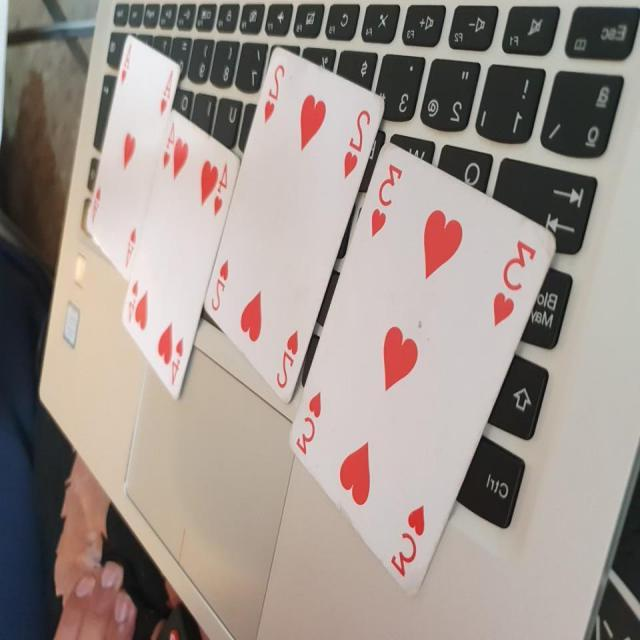2 of hearts: (202, 32, 392, 406)
3 of hearts: (284, 140, 566, 610)
4 of hearts: (113, 114, 243, 400)
ace of hearts: (78, 31, 184, 278)
